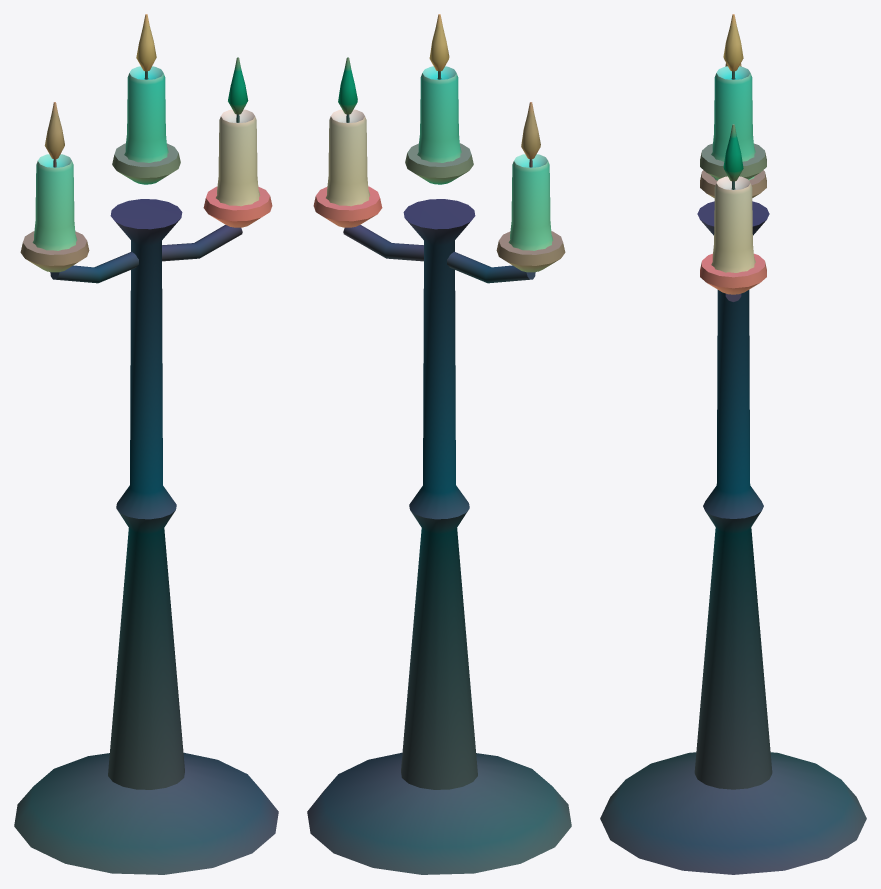
Rendered from candelabra.glb.
3 renders of one model, left to right at view 1: azimuth 30°, elevation 25°; view 2: azimuth 150°, elevation 25°; view 3: azimuth 270°, elevation 25°, orthographic.
Visible parts, largest first — view 1: stand, candle.001, candle, candle.002, cup.001, cup, cup.002, arm, arm.001, flame.002, flame.001, flame; view 2: stand, candle.001, candle, candle.002, cup.001, cup, cup.002, arm, arm.001, flame.001, flame.002, flame; view 3: stand, candle.002, candle.001, cup.002, cup.001, flame.002, flame.001, cup.
Part boxes in pixels (bbox=[...]): stand: bbox=[14, 199, 278, 874]; candle.001: bbox=[124, 66, 168, 162]; candle: bbox=[32, 154, 77, 250]; candle.002: bbox=[216, 109, 260, 206]; cup.001: bbox=[112, 143, 180, 184]; cup: bbox=[20, 231, 89, 272]; cup.002: bbox=[203, 186, 272, 227]; arm: bbox=[50, 251, 138, 283]; arm.001: bbox=[162, 225, 242, 261]; flame.002: bbox=[228, 57, 248, 114]; flame.001: bbox=[136, 14, 156, 71]; flame: bbox=[44, 102, 64, 159]; stand: bbox=[307, 199, 571, 874]; candle.001: bbox=[417, 66, 461, 162]; candle: bbox=[508, 154, 553, 250]; candle.002: bbox=[326, 109, 370, 206]; cup.001: bbox=[405, 143, 473, 184]; cup: bbox=[496, 231, 565, 272]; cup.002: bbox=[313, 186, 382, 227]; arm: bbox=[447, 251, 535, 283]; arm.001: bbox=[343, 225, 423, 261]; flame.001: bbox=[429, 14, 449, 71]; flame.002: bbox=[338, 57, 357, 114]; flame: bbox=[521, 102, 540, 159]; stand: bbox=[600, 201, 866, 874]; candle.002: bbox=[711, 176, 755, 272]; candle.001: bbox=[711, 66, 755, 161]; cup.002: bbox=[700, 253, 766, 294]; cup.001: bbox=[700, 143, 766, 179]; flame.002: bbox=[723, 124, 743, 181]; flame.001: bbox=[723, 14, 743, 71]; cup: bbox=[700, 170, 766, 197].
Size of the model in its own units: 0.504 by 1.6 by 0.48.
